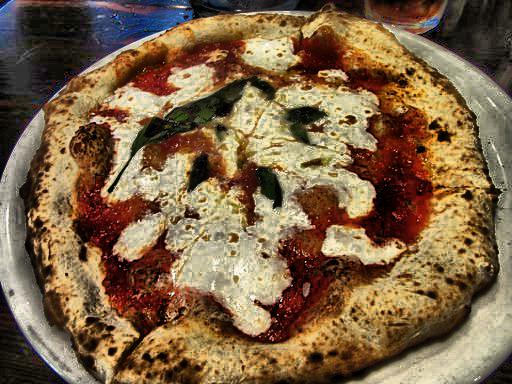pizza: (2, 10, 487, 384)
